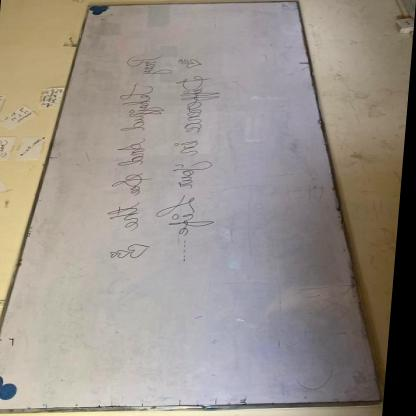Handwritten text: (157, 72, 230, 242), (101, 49, 167, 230)
Whiteboard: (0, 1, 387, 411)
